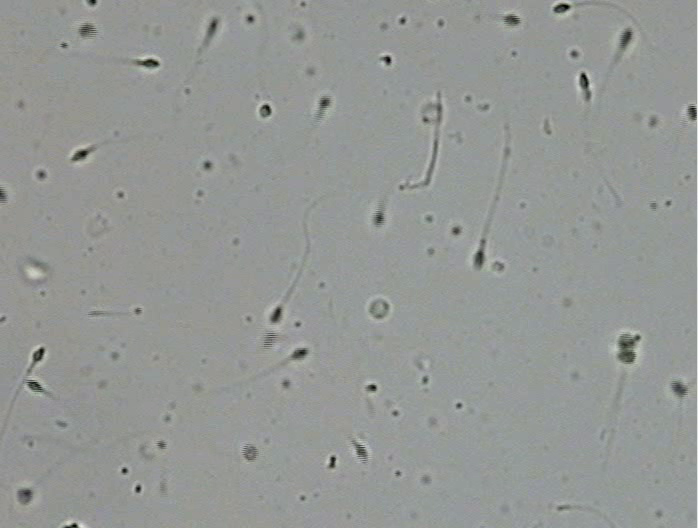Impurity: (368, 298, 390, 319)
S: (617, 332, 636, 364), (670, 379, 689, 397), (352, 442, 368, 463), (78, 23, 98, 39), (242, 443, 259, 461), (619, 29, 632, 50), (263, 331, 278, 348), (16, 489, 33, 504), (269, 307, 283, 324), (26, 380, 44, 393), (503, 14, 521, 27), (474, 249, 485, 270), (70, 149, 89, 161), (290, 348, 308, 360), (686, 103, 697, 122), (318, 95, 331, 111), (372, 211, 384, 227), (579, 71, 589, 90), (32, 347, 45, 361), (553, 3, 571, 13), (141, 59, 160, 68), (259, 104, 272, 117), (207, 20, 217, 36), (1, 186, 8, 204), (86, 1, 97, 6)
